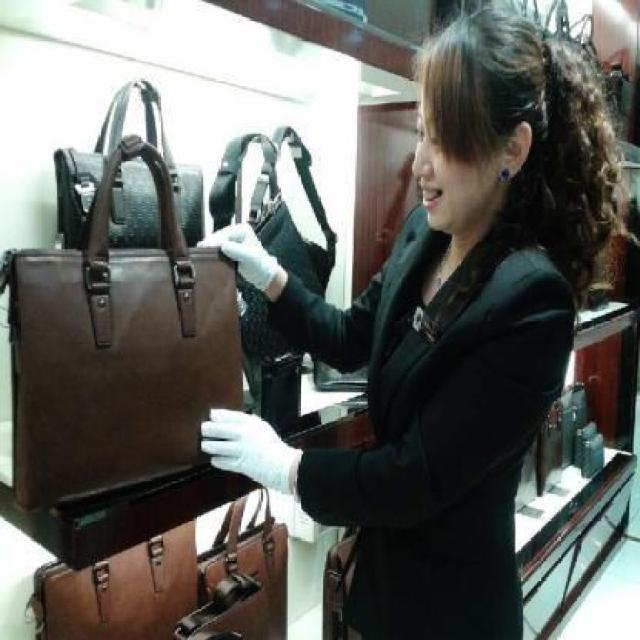face_nomask: (392, 106, 483, 222)
hand_glove: (198, 399, 292, 503), (194, 217, 280, 297)
